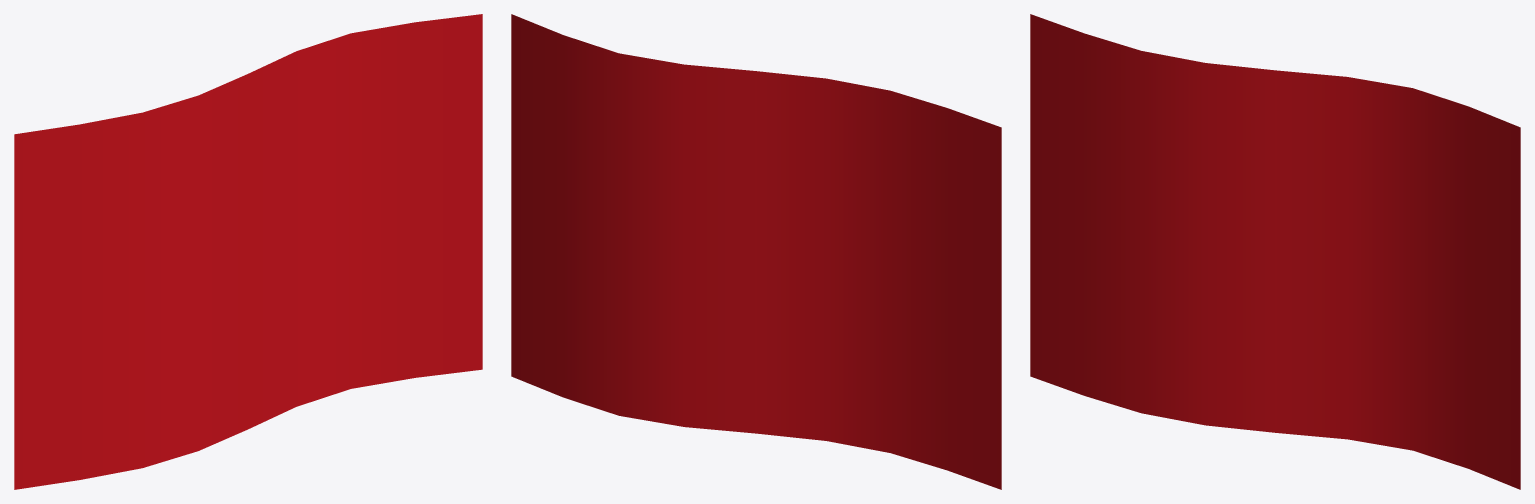
File: bendera.fbx
The picture shows the model from 3 angles, left to right: view 1: azimuth 30°, elevation 25°; view 2: azimuth 150°, elevation 25°; view 3: azimuth 330°, elevation 25°; orthographic projection.
Visible parts, largest first — view 1: Plane.008; view 2: Plane.008; view 3: Plane.008.
Part boxes in pixels (bbox=[...]): Plane.008: bbox=[14, 14, 482, 489]; Plane.008: bbox=[511, 14, 1001, 489]; Plane.008: bbox=[1030, 14, 1520, 489].
Bounding box in the file's own units: 81.5 × 58.33 × 8.65.
